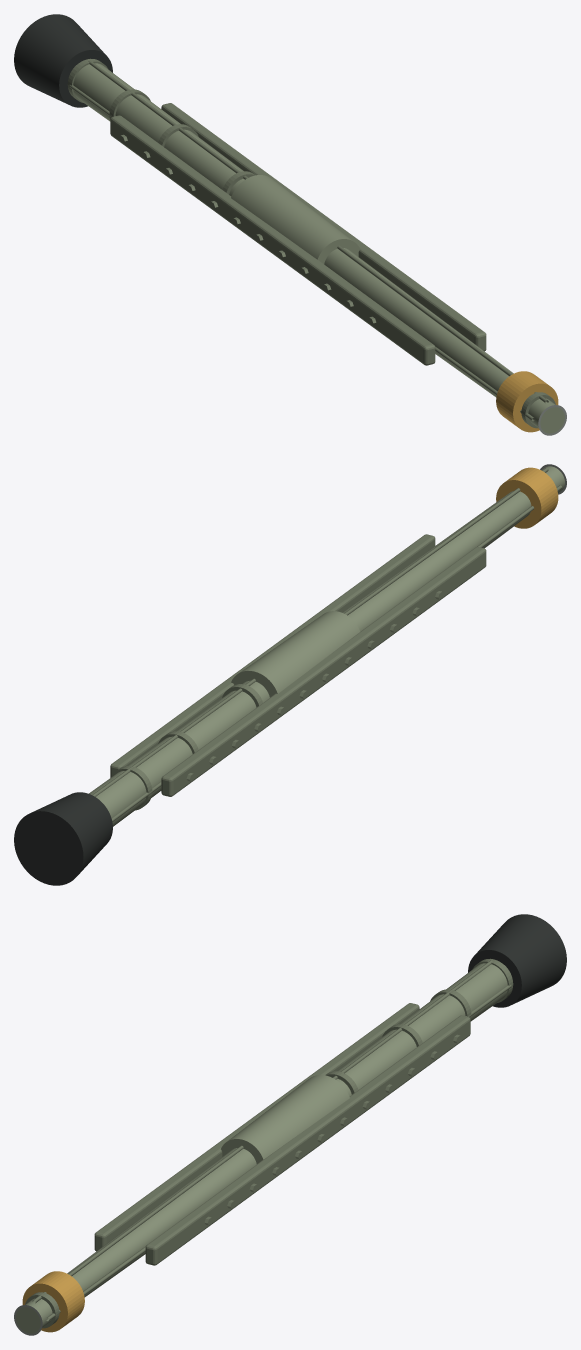
File: barrel_1.glb
3 views of the same model, one above another, from view 1: azimuth 30°, elevation 25°; view 2: azimuth 150°, elevation 25°; view 3: azimuth 330°, elevation 25° (orthographic).
Parts seen in each view (by area): view 1: barrel_1.001; view 2: barrel_1.001; view 3: barrel_1.001.
Boxes of the visible parts, x1=… form: barrel_1.001: x1=14, y1=14, x2=566, y2=435; barrel_1.001: x1=14, y1=464, x2=566, y2=885; barrel_1.001: x1=14, y1=914, x2=566, y2=1335.
Size of the model in its own units: 0.4315 by 0.4263 by 5.35.
